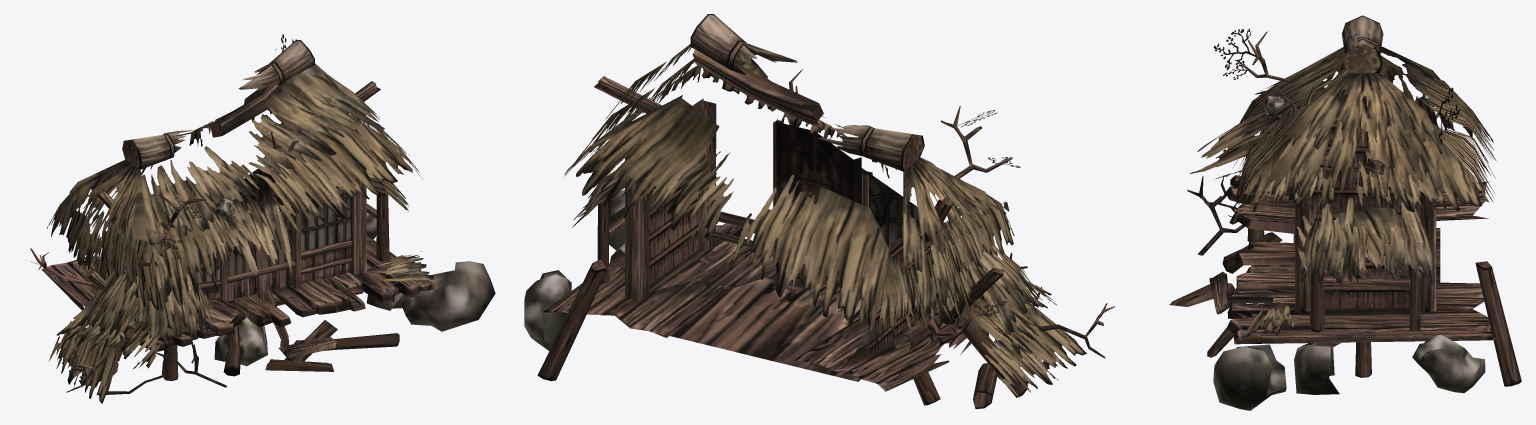
File: PRP_HouseForestB02.FBX
3 renders of one model, left to right at view 1: azimuth 30°, elevation 25°; view 2: azimuth 150°, elevation 25°; view 3: azimuth 270°, elevation 25°, orthographic. The views are drawn at different scales.
Parts seen in each view (by area): view 1: PRP_HouseForestB02; view 2: PRP_HouseForestB02; view 3: PRP_HouseForestB02.
Part boxes in pixels (x1,y1,x2,y2): PRP_HouseForestB02: [30, 34, 495, 403]; PRP_HouseForestB02: [524, 14, 1115, 409]; PRP_HouseForestB02: [1169, 15, 1521, 410].
Bounding box in the file's own units: 1188 × 723 × 738.
